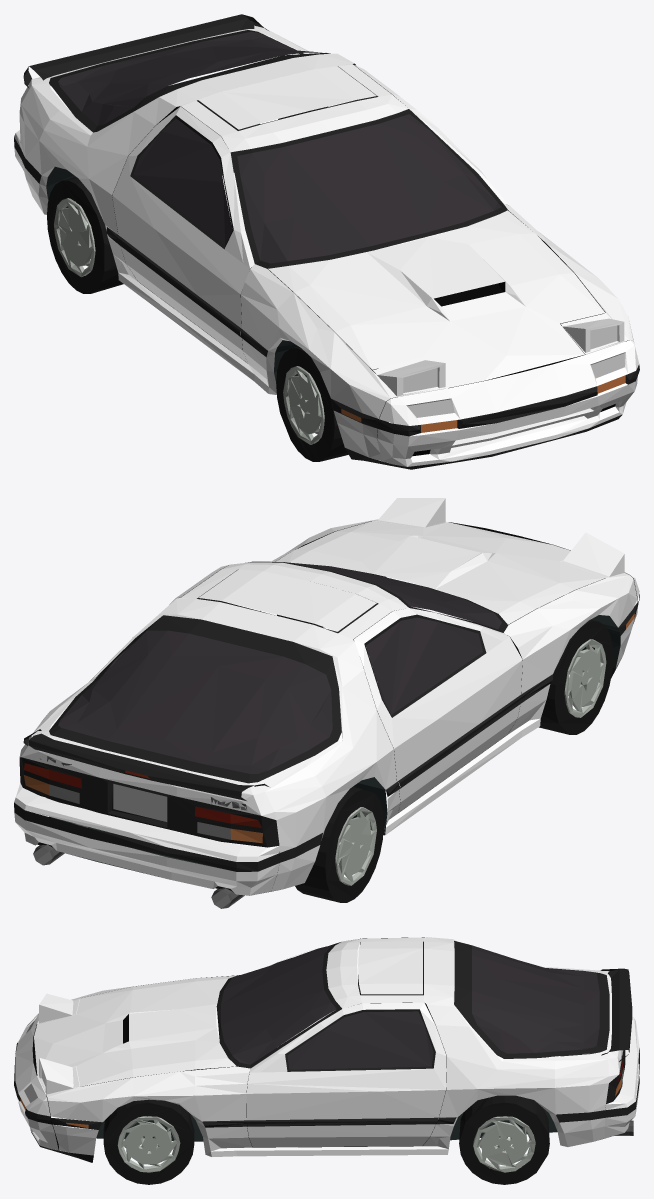
Rendered from mazda.glb.
The picture shows the model from 3 angles, top to bottom: view 1: azimuth 30°, elevation 25°; view 2: azimuth 150°, elevation 25°; view 3: azimuth 270°, elevation 25°; orthographic projection. The views are drawn at different scales.
Visible parts, largest first — view 1: Headlights; view 2: Headlights; view 3: Headlights.
Boxes of the visible parts, x1,y1,x2,y2 form: Headlights: (14,14,639,469); Headlights: (14,498,639,908); Headlights: (14,937,639,1184).
Size of the model in its own units: 1.74 by 1.23 by 4.2.
2 materials, 1 textured.
